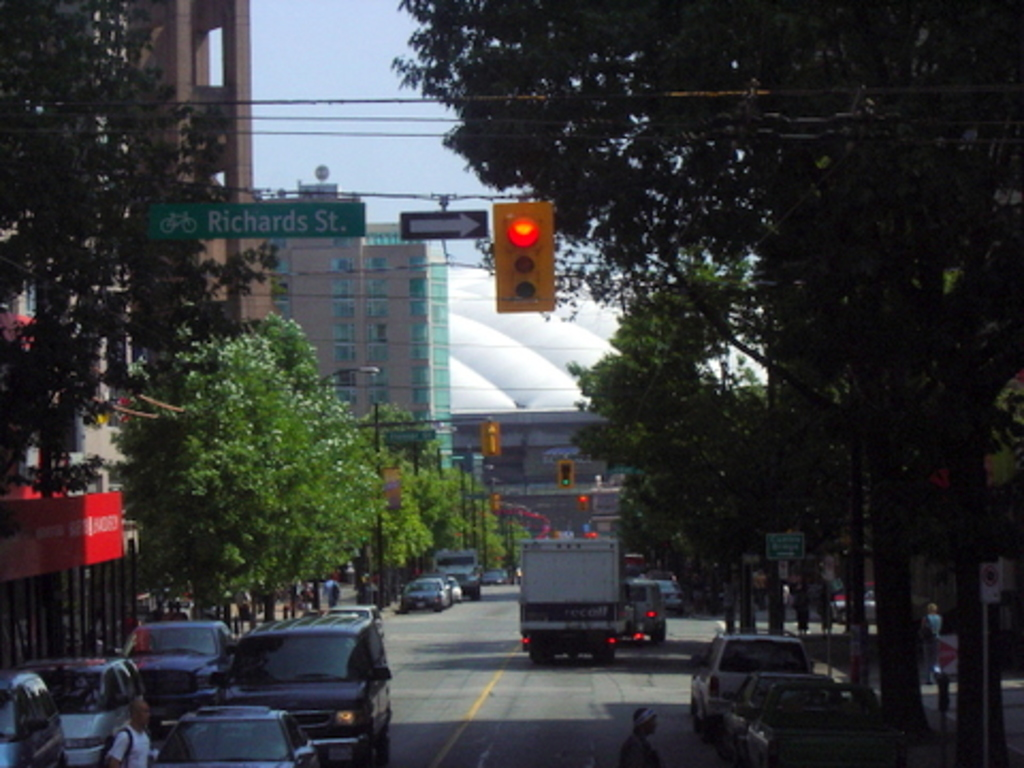red_light: (500, 207, 547, 310)
